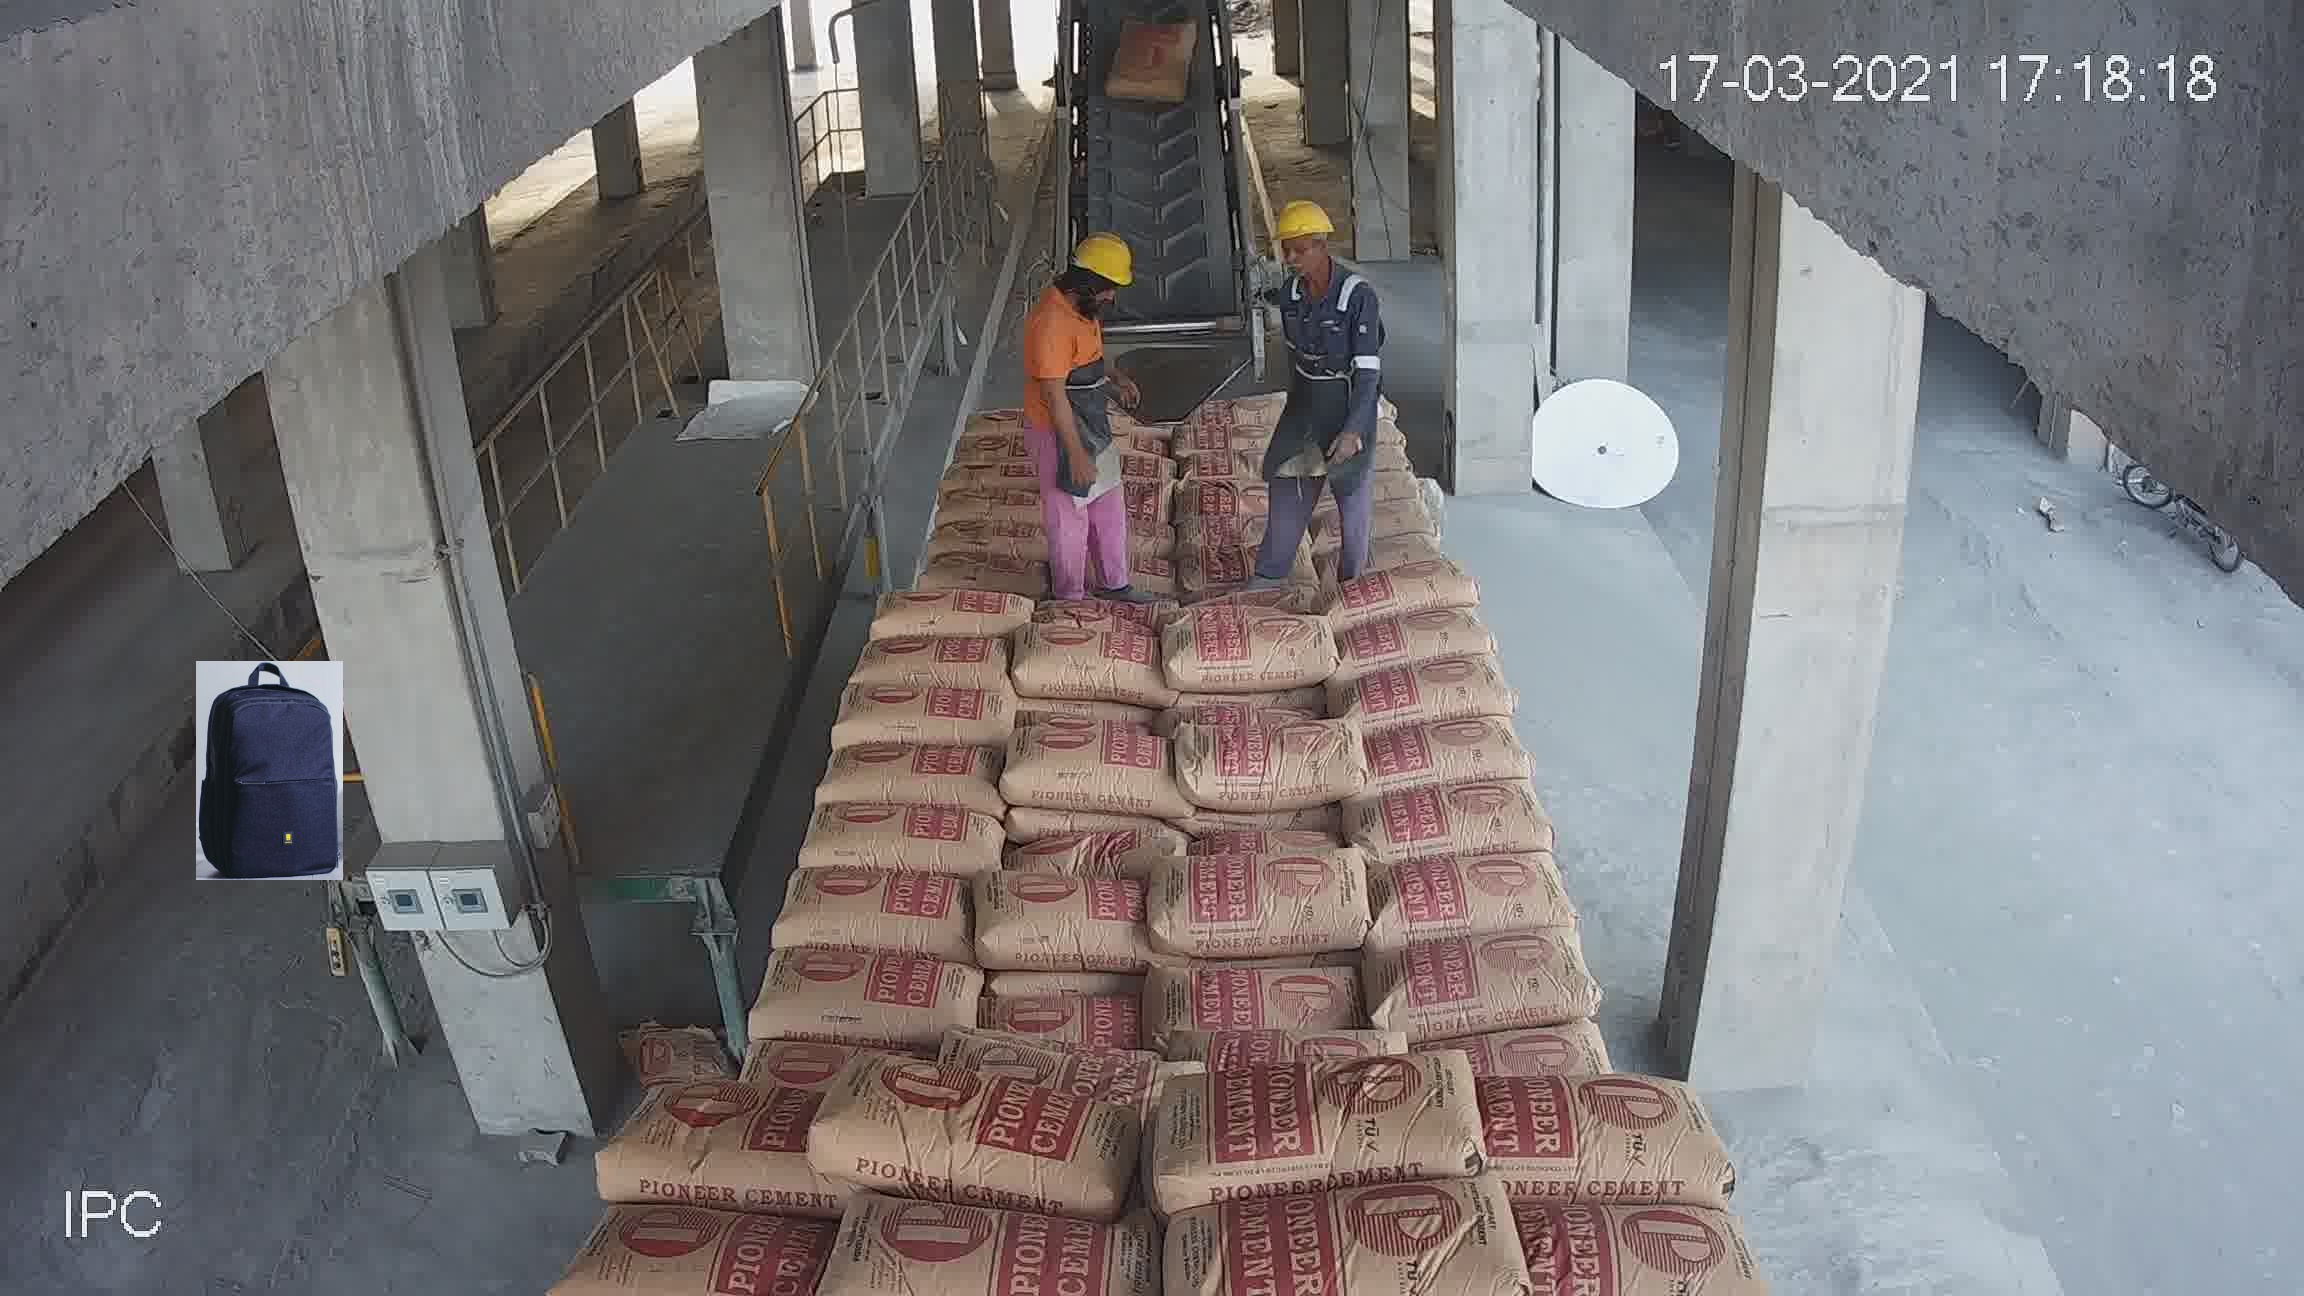bag: (1103, 13, 1203, 98)
bag_h: (812, 734, 1011, 817), (793, 798, 995, 878), (809, 685, 1032, 747), (867, 579, 1043, 650), (832, 635, 1016, 698), (919, 551, 1040, 603), (923, 451, 1036, 498), (924, 491, 1033, 532), (911, 524, 1055, 552)
bag_v: (1141, 1055, 1489, 1203), (812, 1052, 1144, 1199), (1464, 1065, 1719, 1201), (1367, 915, 1601, 1043), (1152, 840, 1375, 956), (592, 1078, 810, 1192), (734, 945, 983, 1043), (1351, 848, 1578, 948), (1173, 709, 1366, 813), (972, 862, 1135, 975), (756, 872, 968, 956), (1146, 954, 1366, 1033), (1359, 775, 1551, 866), (1176, 1011, 1396, 1087), (975, 734, 1166, 820), (1355, 709, 1533, 799), (1166, 601, 1328, 701), (984, 959, 1154, 1052), (1006, 790, 1177, 878), (934, 1040, 1166, 1101), (1348, 654, 1522, 736), (1014, 604, 1143, 715), (1323, 559, 1492, 641), (1337, 603, 1497, 688), (1177, 540, 1313, 597), (1173, 451, 1263, 494), (1169, 421, 1272, 456)
belt: (1062, 47, 1249, 399)
